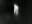person: (14, 5, 20, 18)
